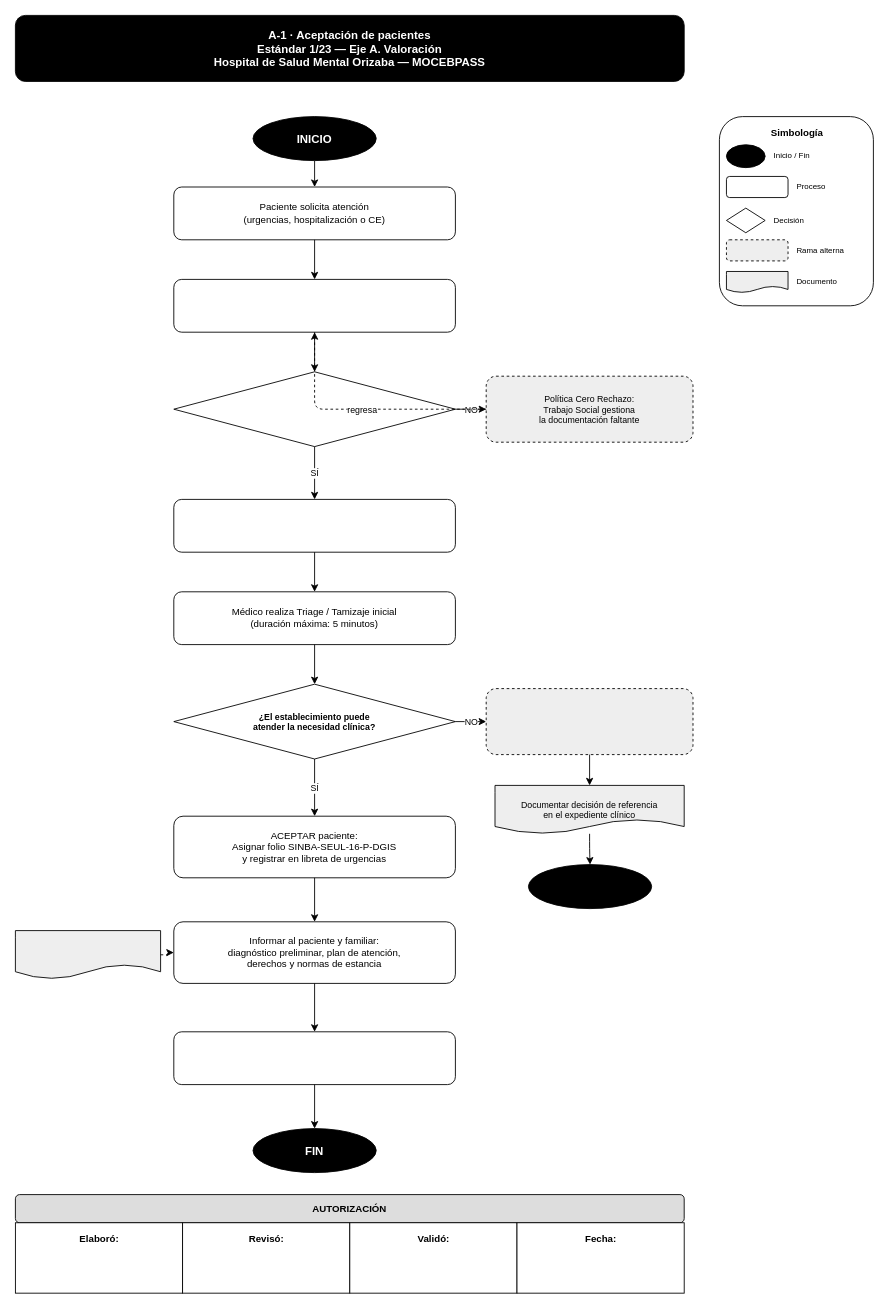
Image size: 889x1309. Some labels were removed from this diagram. Each missing label, with the centre of its shape:
Canalizar a servicio correspondiente (Urgencias / Hospitalización / CE): point 314,1058
FIN (referencia): point 590,886
Identificar tipo de servicio requerido y derechohabiencia: point 314,525
No puede atender: Iniciar proceso de referencia y notificar a Jefatura: point 589,721
Recepción: verificar documentación e identificación del paciente: point 314,305
Registrar información entregada a familiares (firma en expediente): point 88,954
¿Documentación completa?: point 314,409
